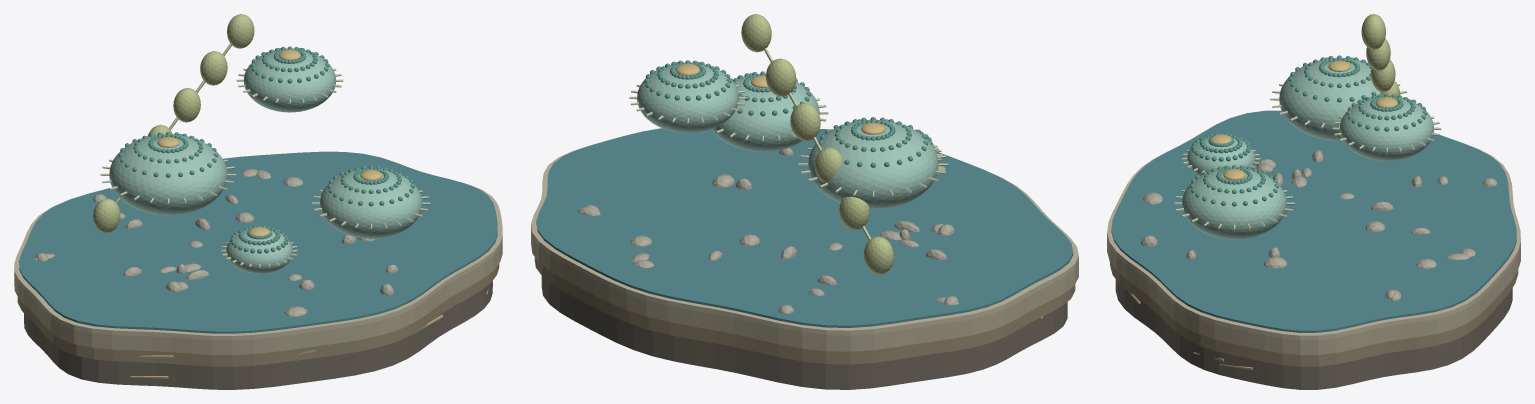
Rendered from plankton.glb.
3 renders of one model, left to right at view 1: azimuth 30°, elevation 25°; view 2: azimuth 150°, elevation 25°; view 3: azimuth 270°, elevation 25°, orthographic. The views are drawn at different scales.
Visible parts, largest first — view 1: world; view 2: world; view 3: world.
Part boxes in pixels (<box>): world: <box>14,14,502,389</box>; world: <box>531,14,1078,389</box>; world: <box>1107,14,1520,389</box>.
Size of the model in its own units: 1.8 by 1.02 by 1.4.
